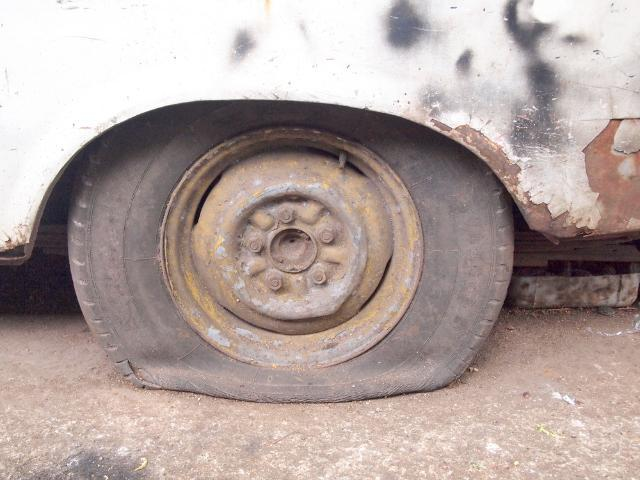tire flat: (67, 99, 514, 403)
